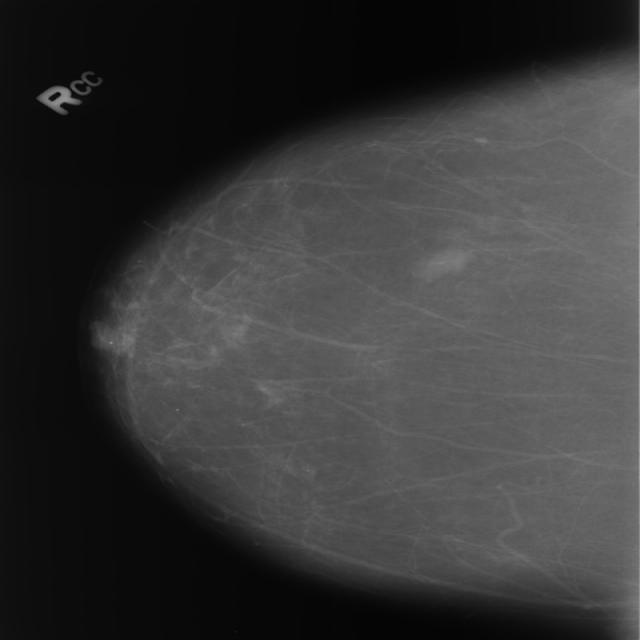tumour: (412, 245, 472, 281)
